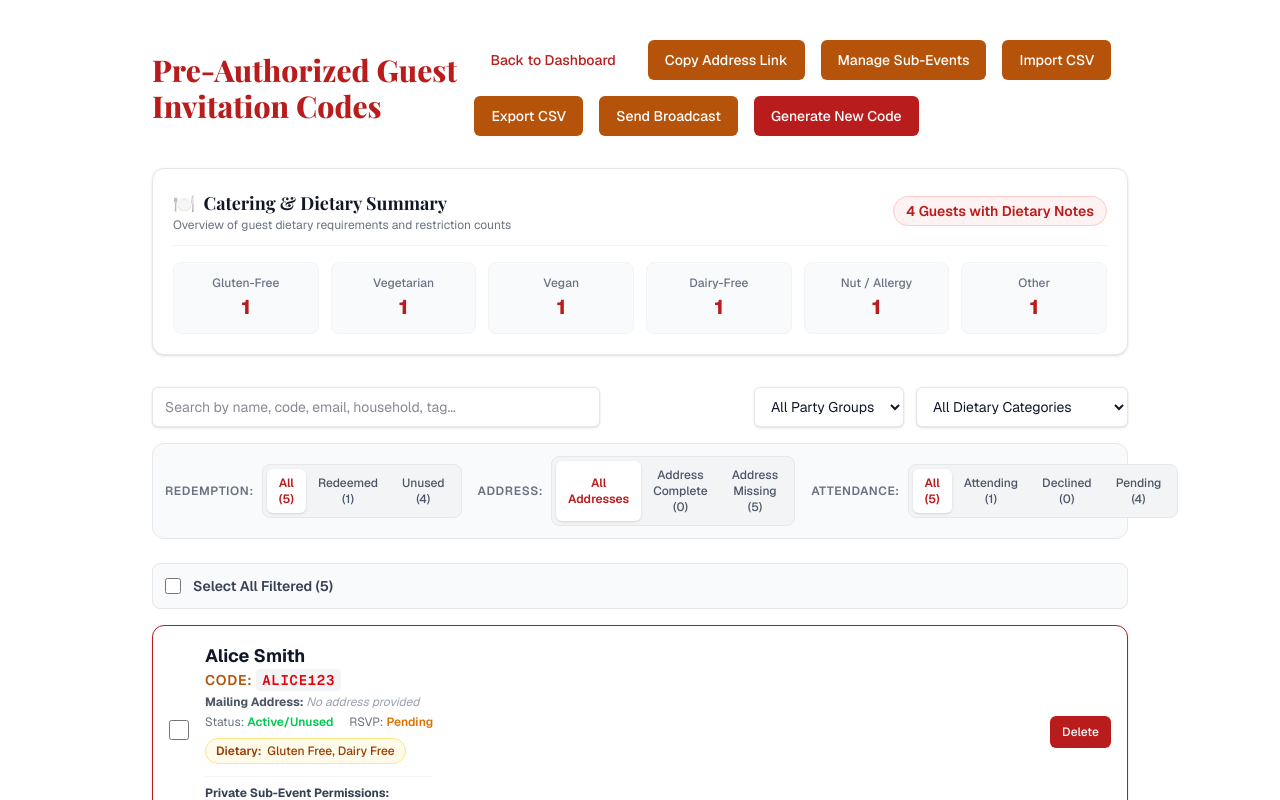
Scenario: InvitationCodesDashboardPage › Bulk Selection and Floating Action Bar › toggles Select All Filtered to check/uncheck all visible items and sets indeterminate state
Select All
Click the checkbox named "Select all filtered invitation codes": [173, 586] box [165,578,181,594]
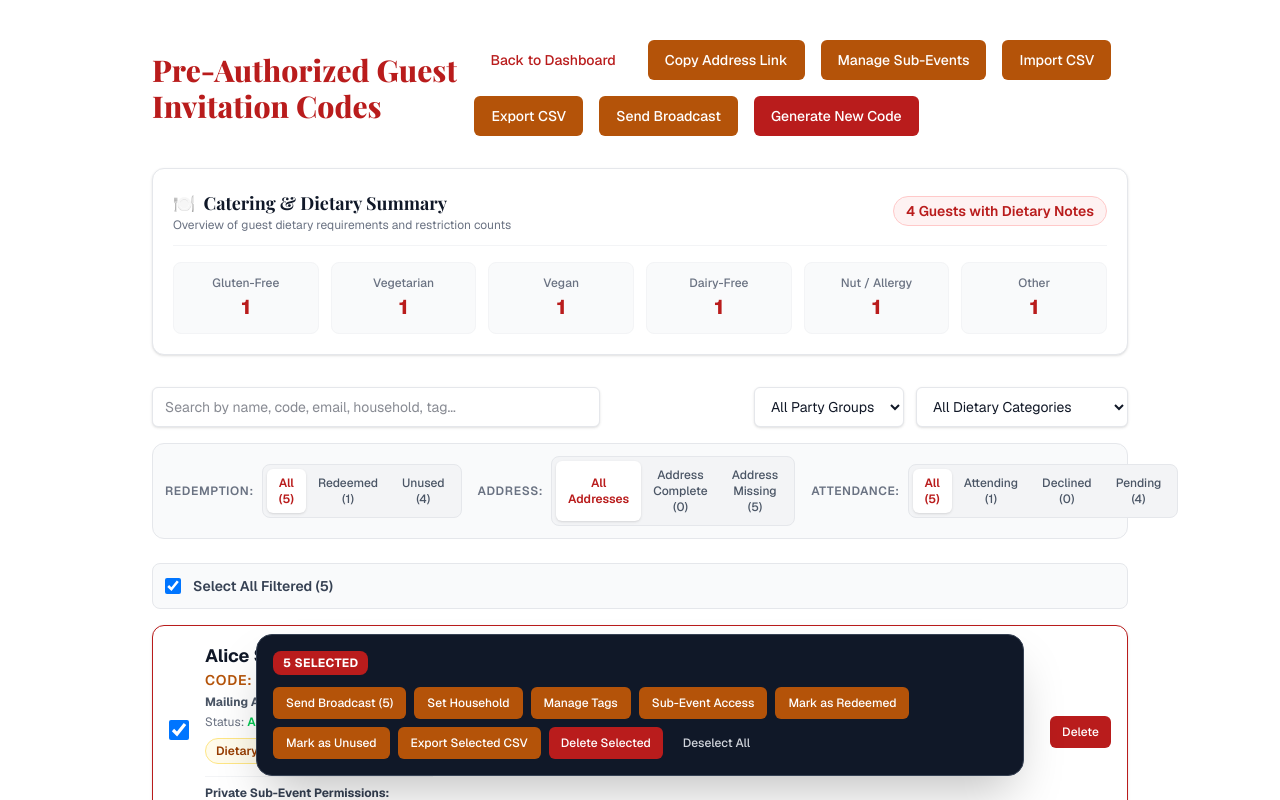
Expected: the text "5 Selected" is shown, [273,651,368,675]
Deselect All via header checkbox
Click the checkbox named "Select all filtered invitation codes": [173, 586] box [165,578,181,594]
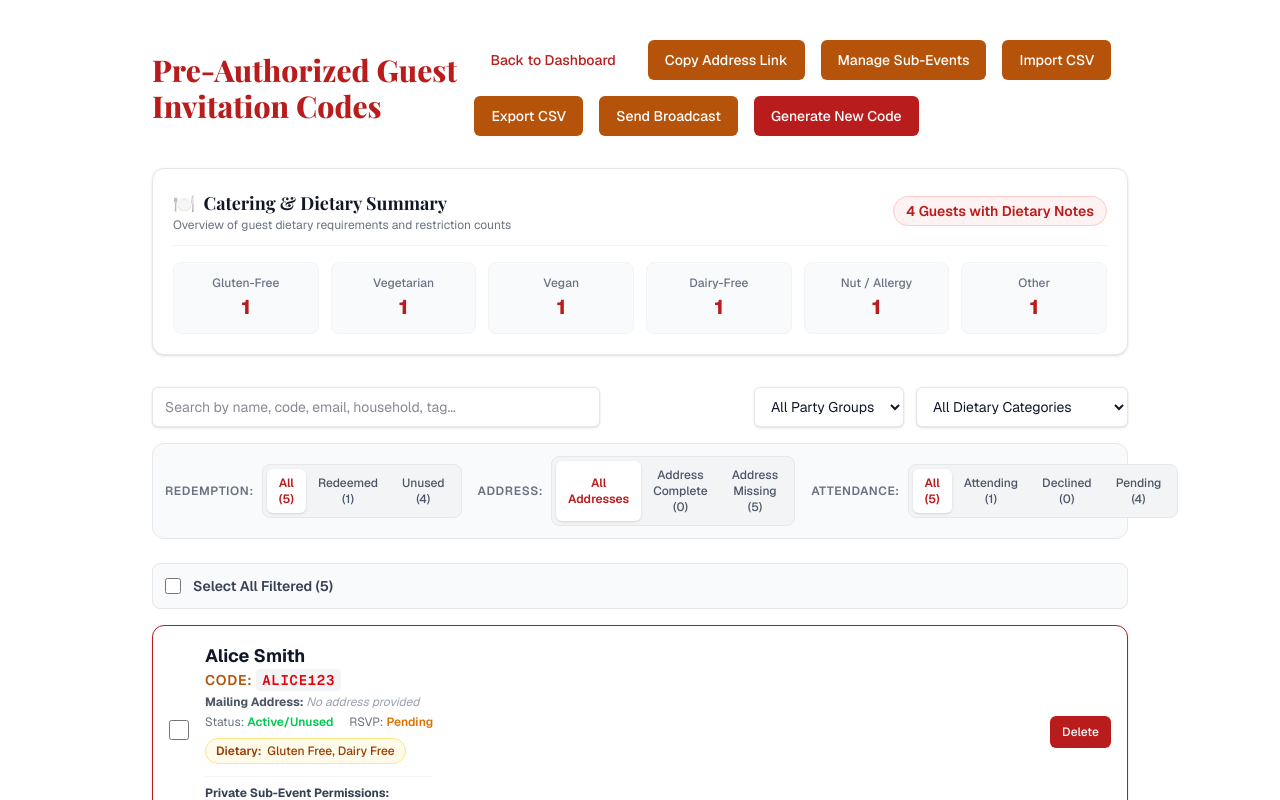
Click the checkbox named "Select invitation code for Alice Smith": [179, 730] box [169,720,189,740]
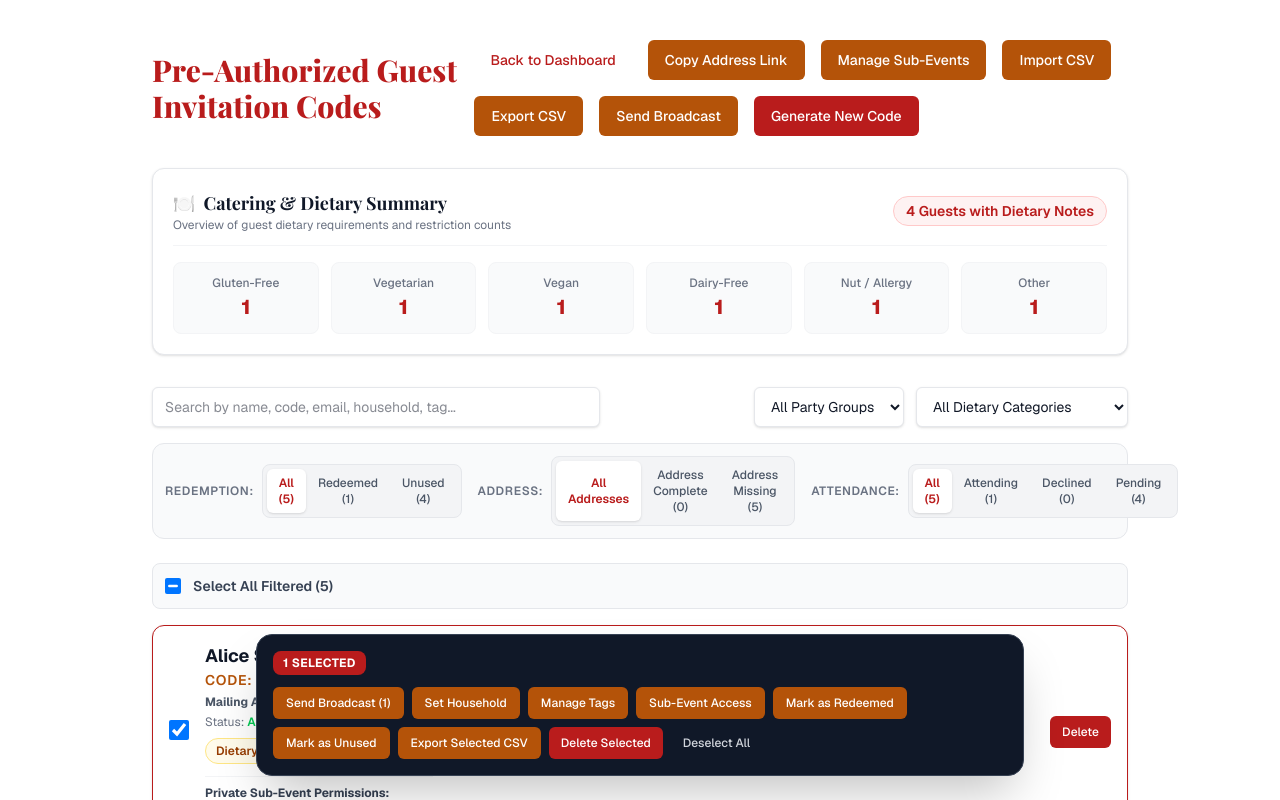
Filter to Unused tab and select all filtered
Click the tab "Unused (4)": [423, 491] box [390,469,457,513]
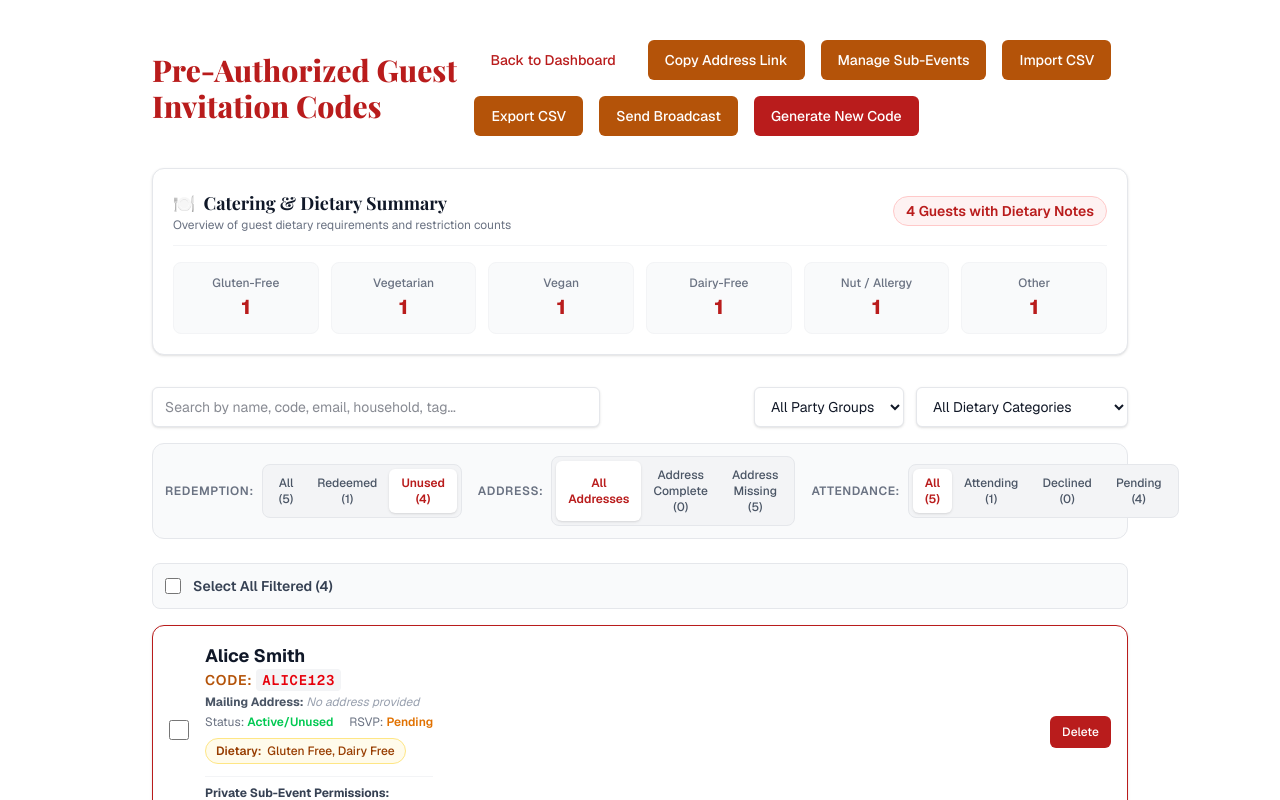
Click the checkbox named "Select all filtered invitation codes": [173, 586] box [165,578,181,594]
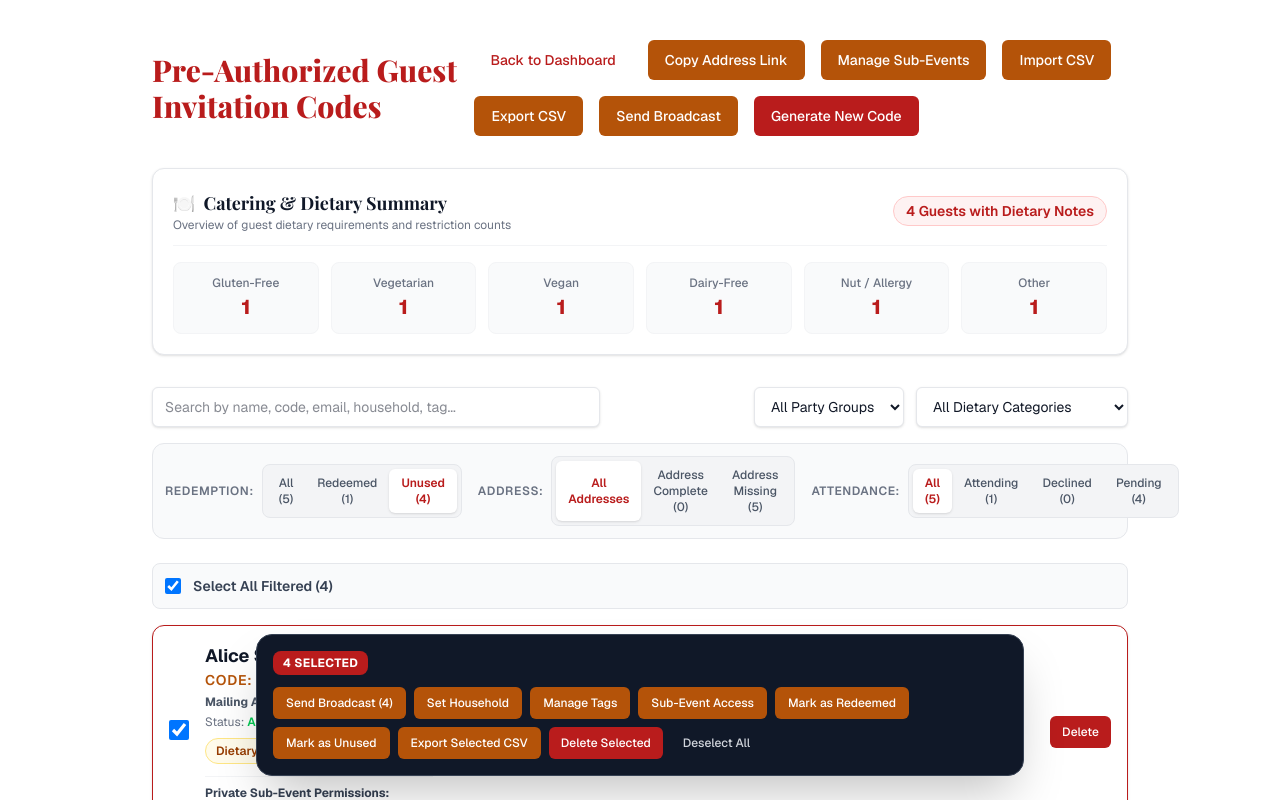
Expected: the text "4 Selected" is shown, [273,651,368,675]
